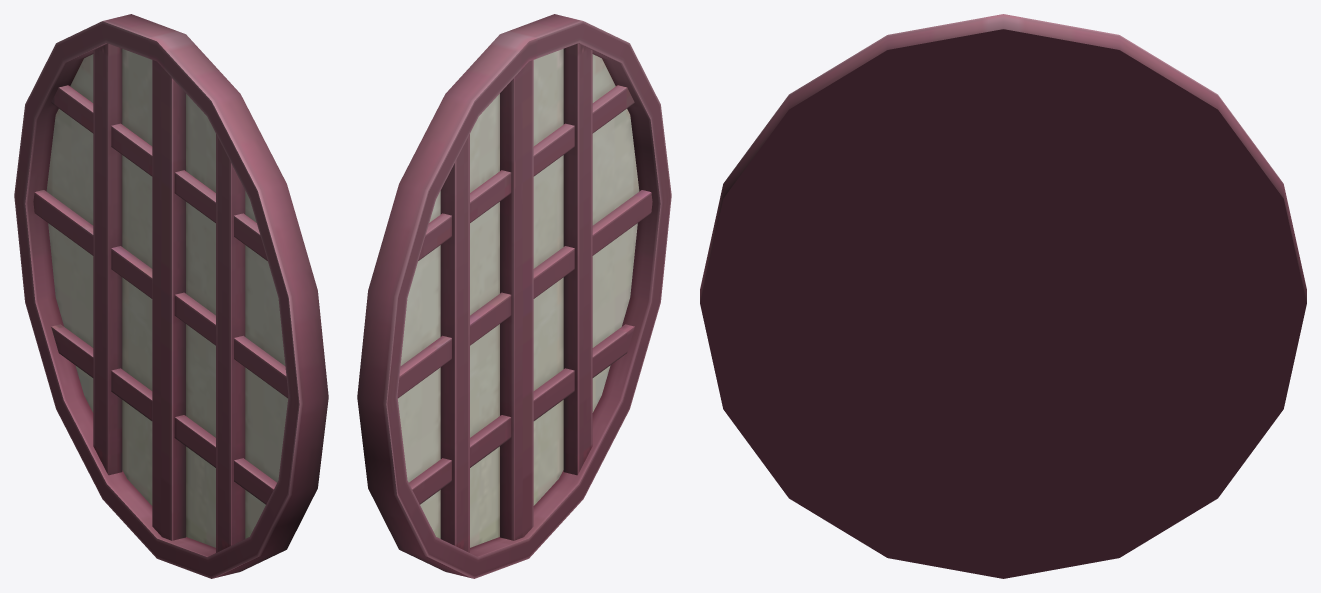
Rendered from my_hyakkiyako_01_window_01.glb.
3 renders of one model, left to right at view 1: azimuth 30°, elevation 25°; view 2: azimuth 150°, elevation 25°; view 3: azimuth 270°, elevation 25°, orthographic. The views are drawn at different scales.
Visible parts, largest first — view 1: my_hyakkiyako_01_window_01; view 2: my_hyakkiyako_01_window_01; view 3: my_hyakkiyako_01_window_01.
Part boxes in pixels (x1=…): my_hyakkiyako_01_window_01: x1=14, y1=14, x2=328, y2=578; my_hyakkiyako_01_window_01: x1=357, y1=14, x2=671, y2=578; my_hyakkiyako_01_window_01: x1=700, y1=14, x2=1306, y2=578.
Size of the model in its own units: 0.000438 by 0.00743 by 0.00743.
Materials: 1 (1 with a texture image).
